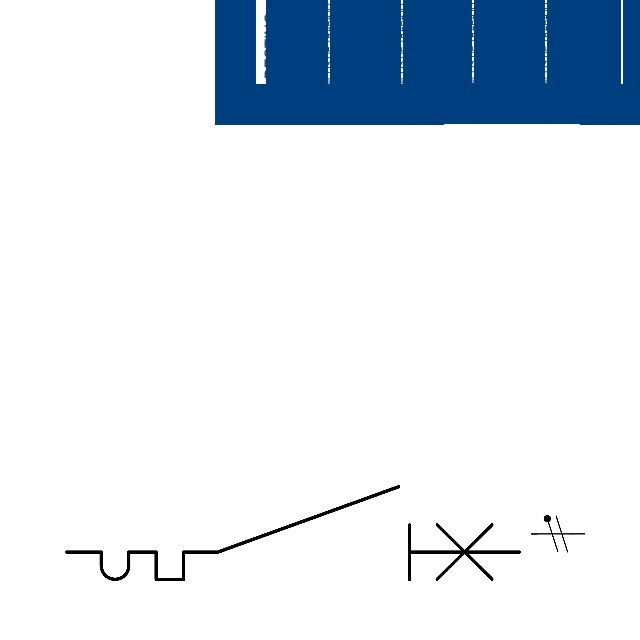interruptor_termomagnetico: (55, 475, 531, 591)
